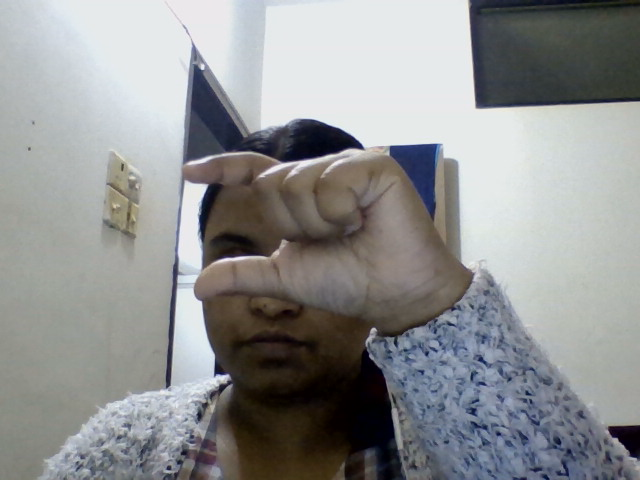No: (146, 134, 536, 348)
